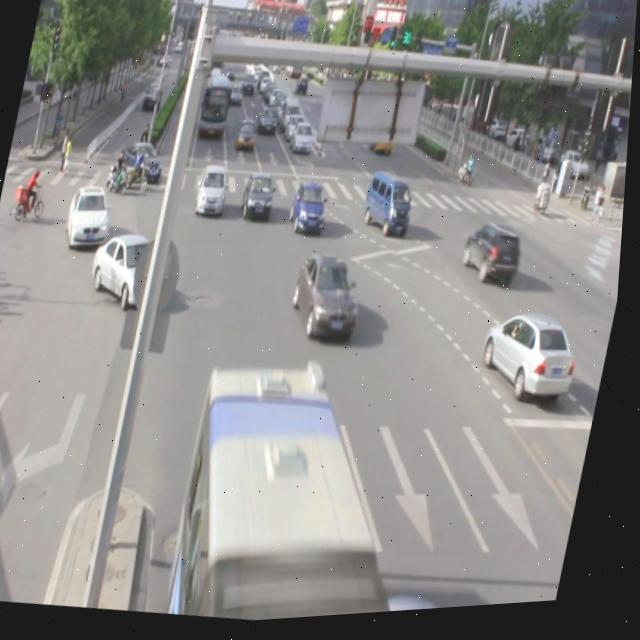car: (477, 311, 589, 415), (289, 254, 372, 349), (87, 228, 173, 318), (462, 223, 531, 296), (290, 180, 335, 239), (194, 166, 235, 223), (241, 174, 282, 228)
truck: (363, 173, 421, 244)
van: (169, 356, 456, 629)
